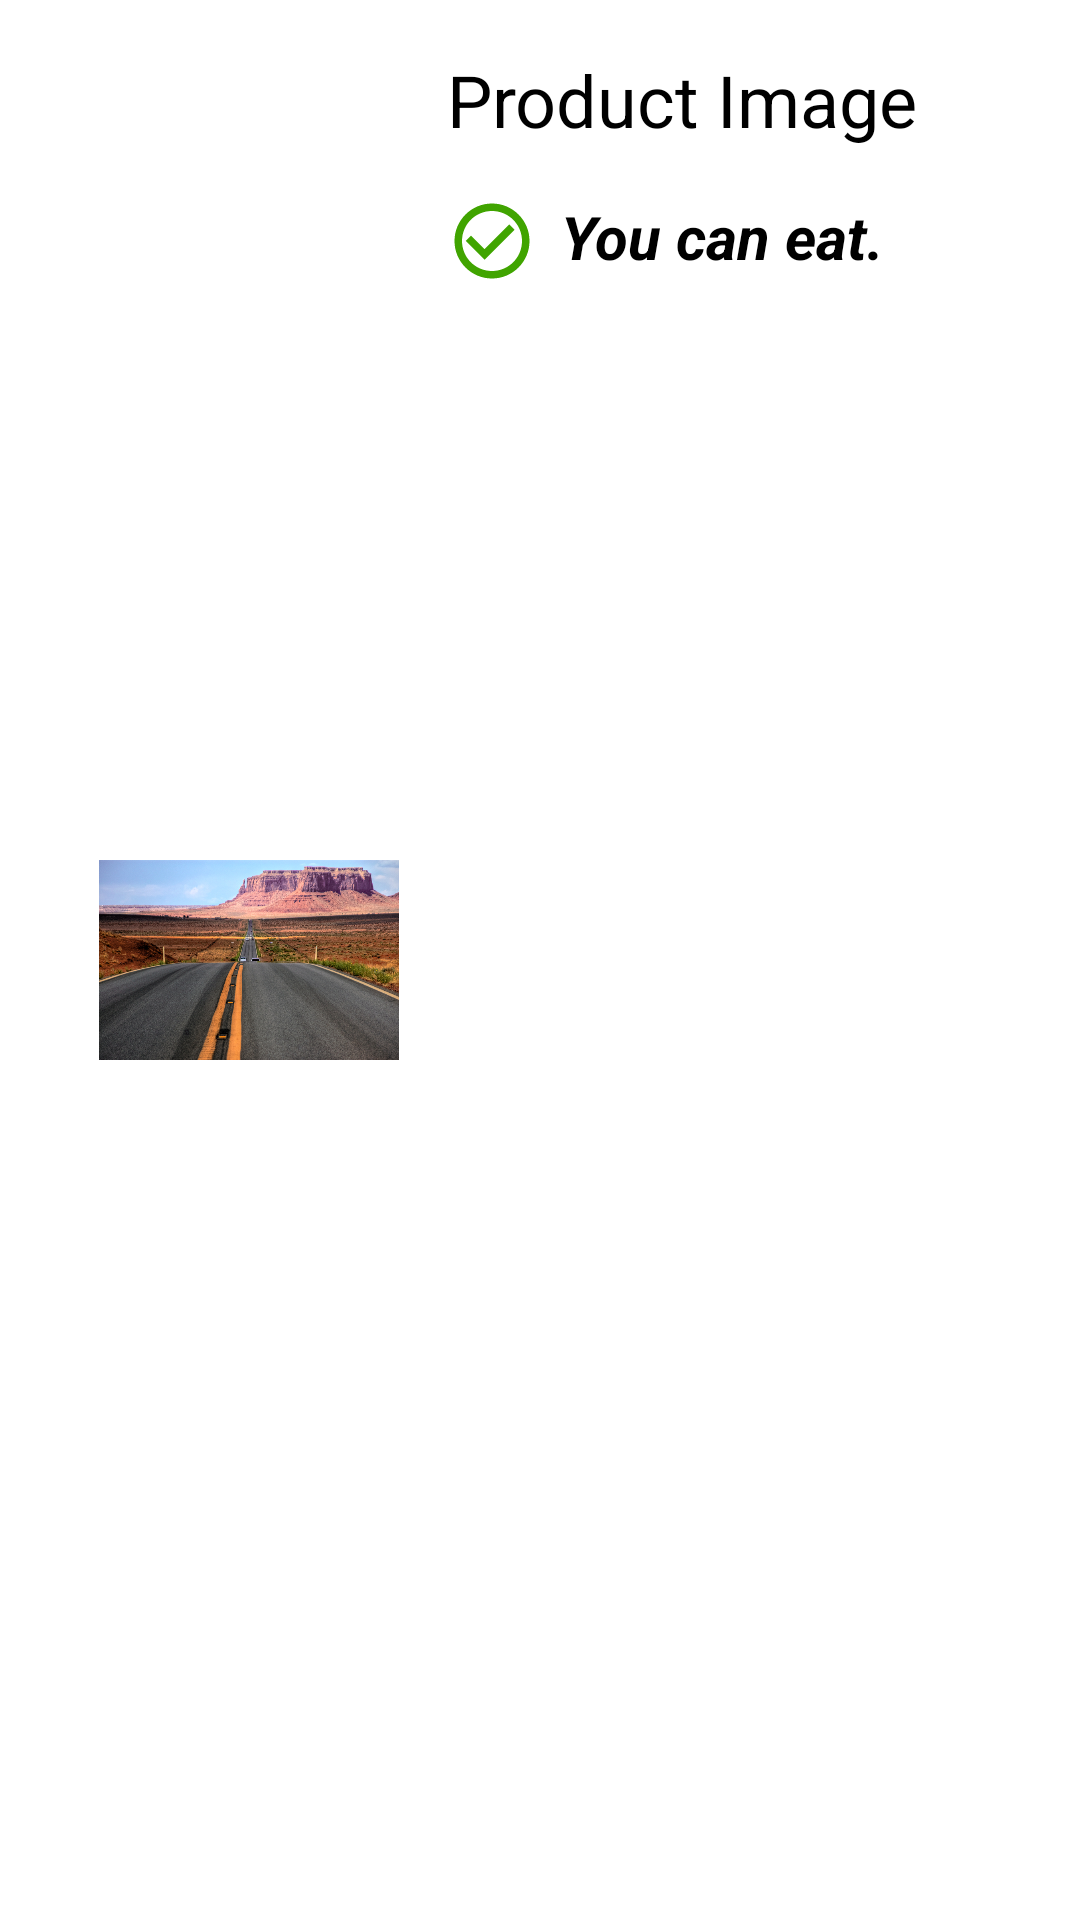

Icon bounding boxes for this 1080x1920 phone screenshot, format (x1, y1, x2, y2):
check circle: (454, 203, 530, 279)
